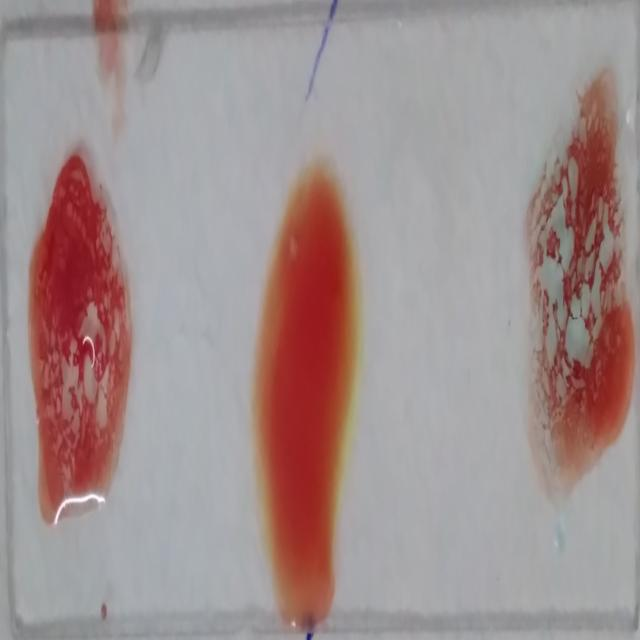A: (522, 105, 636, 492)
D: (30, 150, 128, 526)
